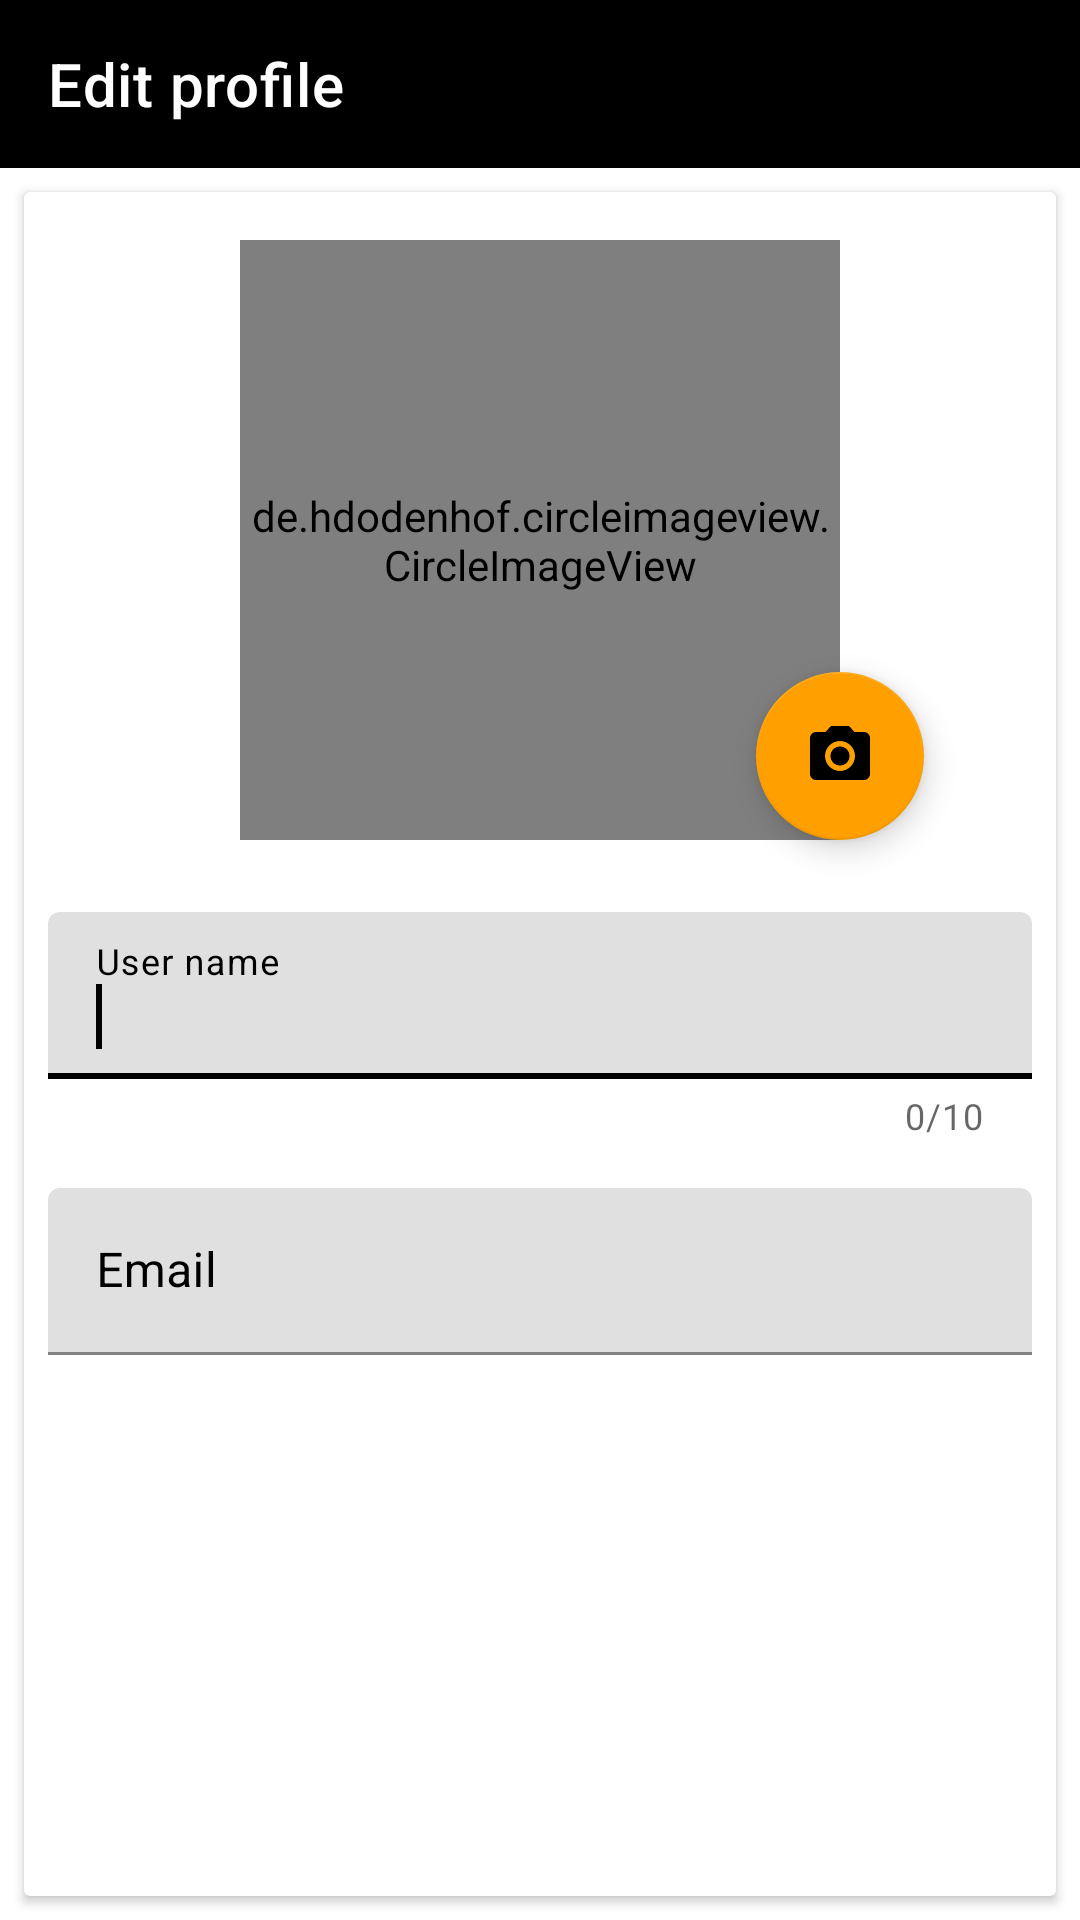

Named icons in this screenshot (1080 × 1920) and their centers, [x,y]:
camera: [840,756]
